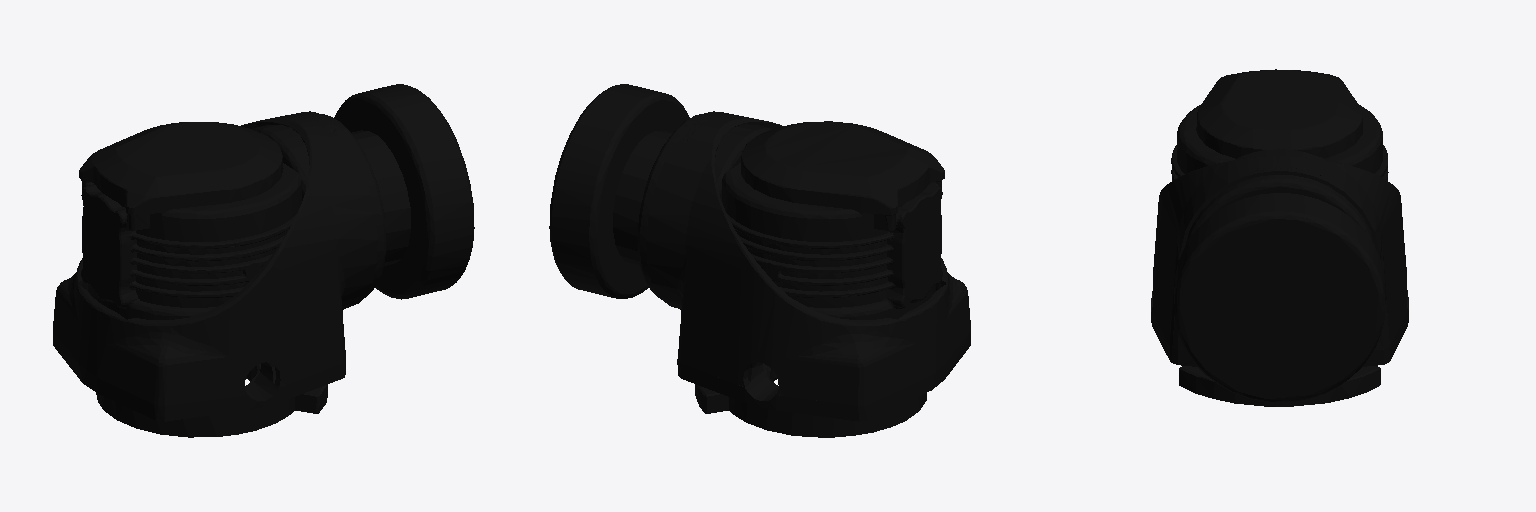
The model's file is rear_right_hip.obj.
3 views of the same model, side by side, from view 1: azimuth 30°, elevation 25°; view 2: azimuth 150°, elevation 25°; view 3: azimuth 270°, elevation 25° (orthographic).
Visible parts, largest first — view 1: _2-042137-001-A00_TOP_LEVEL_DEFEATURED_-_NOT_FOR_PRODUCTION_010; view 2: _2-042137-001-A00_TOP_LEVEL_DEFEATURED_-_NOT_FOR_PRODUCTION_010; view 3: _2-042137-001-A00_TOP_LEVEL_DEFEATURED_-_NOT_FOR_PRODUCTION_010.
Boxes of the visible parts, x1,y1,x2,y2 form: _2-042137-001-A00_TOP_LEVEL_DEFEATURED_-_NOT_FOR_PRODUCTION_010: [53, 84, 474, 437]; _2-042137-001-A00_TOP_LEVEL_DEFEATURED_-_NOT_FOR_PRODUCTION_010: [549, 84, 970, 437]; _2-042137-001-A00_TOP_LEVEL_DEFEATURED_-_NOT_FOR_PRODUCTION_010: [1151, 69, 1408, 406].
Size of the model in its own units: 0.1417 by 0.1001 by 0.0941.